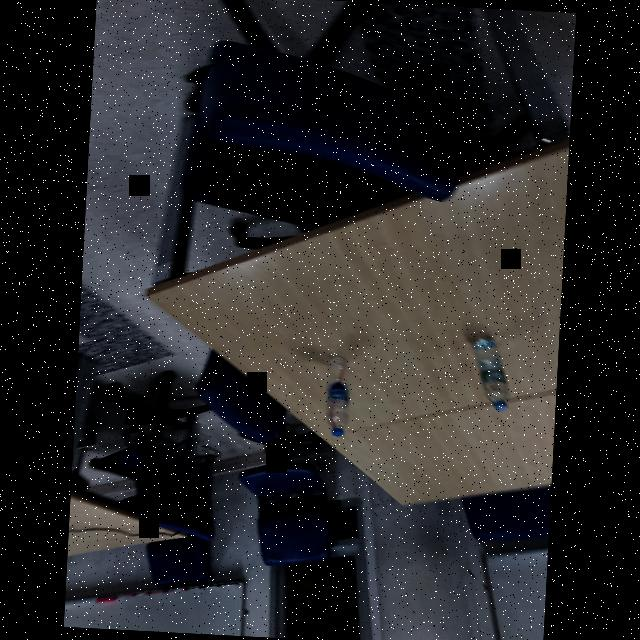plastic_bottle: (465, 335, 514, 415), (322, 354, 354, 438)
plastic_bottle_cap: (494, 402, 509, 413), (333, 427, 345, 437)
straw: (328, 358, 348, 428)
